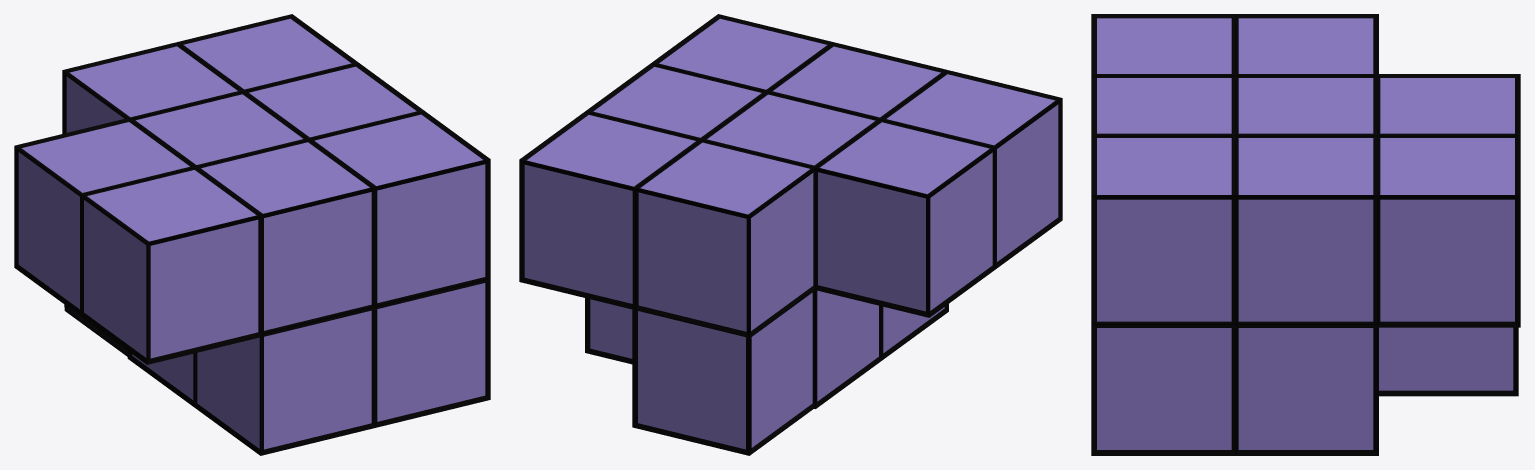
The picture shows the model from 3 angles, left to right: view 1: azimuth 30°, elevation 25°; view 2: azimuth 150°, elevation 25°; view 3: azimuth 270°, elevation 25°; orthographic projection. The views are drawn at different scales.
Visible parts, largest first — view 1: d:Mesh; view 2: d:Mesh, group1; view 3: d:Mesh, group1.
Part boxes in pixels (<box>): d:Mesh: <box>14,14,490,455</box>; d:Mesh: <box>519,14,1062,408</box>; group1: <box>632,286,817,455</box>; d:Mesh: <box>1091,14,1520,455</box>; group1: <box>1379,327,1518,396</box>.
Bounding box in the file's own units: 6.06 × 4.06 × 6.06.
